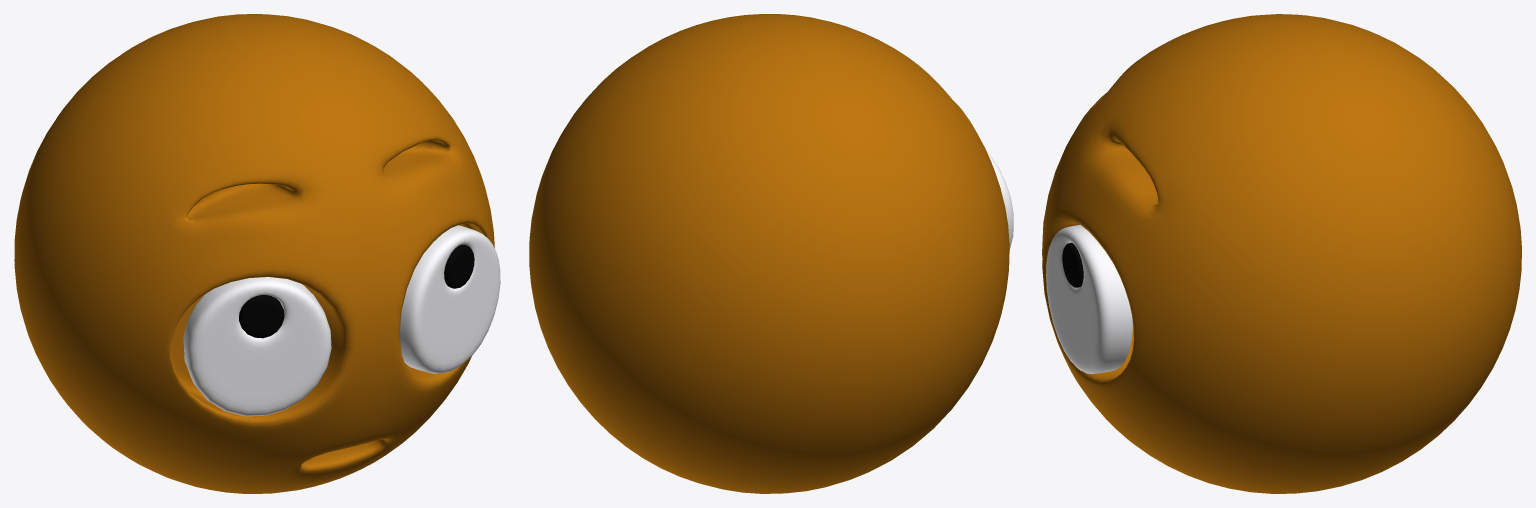
Rendered from rolling eyes.FBX.
The picture shows the model from 3 angles, left to right: view 1: azimuth 30°, elevation 25°; view 2: azimuth 150°, elevation 25°; view 3: azimuth 270°, elevation 25°; orthographic projection.
Parts seen in each view (by area): view 1: Group13301, Group003, ZBrush_defualt_group002, ZBrush_defualt_group, Group1; view 2: Group13301, Group003; view 3: Group13301, ZBrush_defualt_group002, Group1.
Boxes of the visible parts, <box> form: Group13301: <box>14,14,494,493</box>; Group003: <box>183,277,331,416</box>; ZBrush_defualt_group002: <box>399,225,500,374</box>; ZBrush_defualt_group: <box>239,295,284,338</box>; Group1: <box>444,244,474,288</box>; Group13301: <box>529,14,1009,493</box>; Group003: <box>987,152,1013,249</box>; Group13301: <box>1042,14,1521,493</box>; ZBrush_defualt_group002: <box>1046,225,1132,373</box>; Group1: <box>1062,242,1083,287</box>.
Size of the model in its own units: 22.56 by 22.56 by 22.57.
